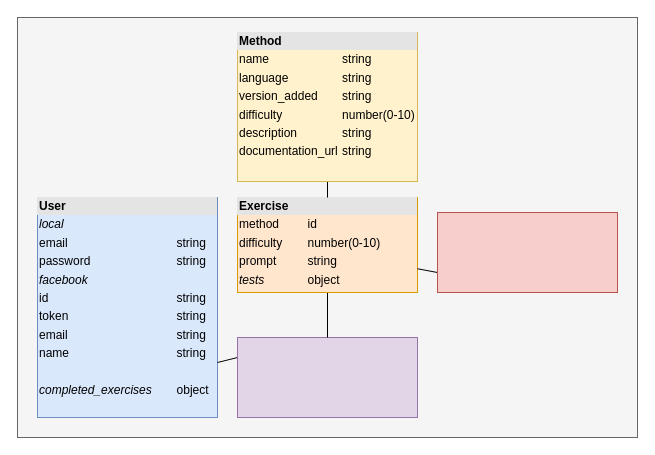
This 655x455 diagram has some shape labels left out. The centre of each missing label's shape, as x and y in pixels:
"Completed Exercise exercise_id id time_elapsed number solution string" goes at point 327,377.
"Test explanation string invocation string expectation string" goes at point 527,252.
